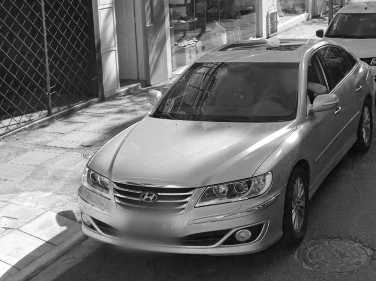car: (78, 39, 374, 255)
